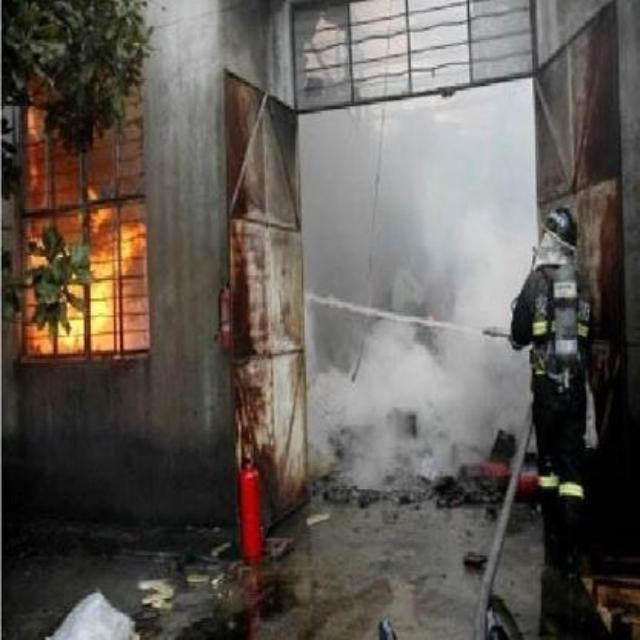Fire: (27, 99, 146, 355)
Smoke: (296, 114, 536, 481)
